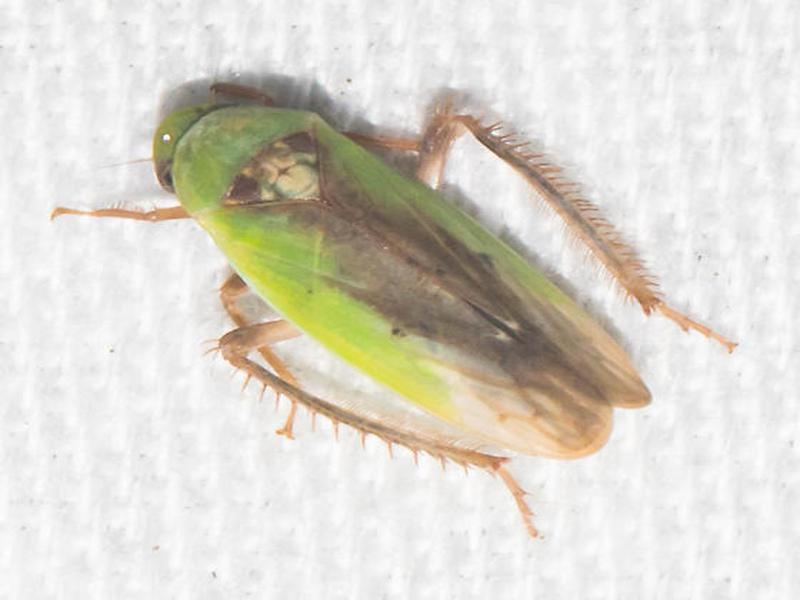Brown_plant_leafhopper: (94, 58, 676, 513)
